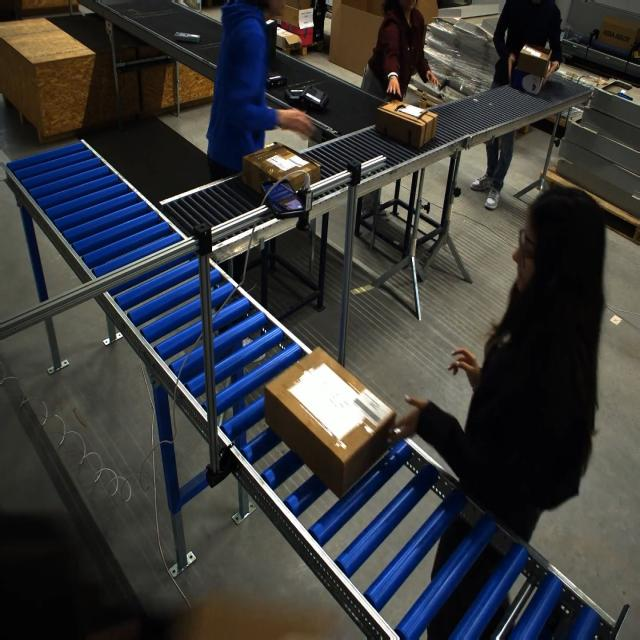box: (259, 345, 382, 493), (242, 141, 320, 198), (376, 99, 436, 149), (512, 43, 552, 95)
